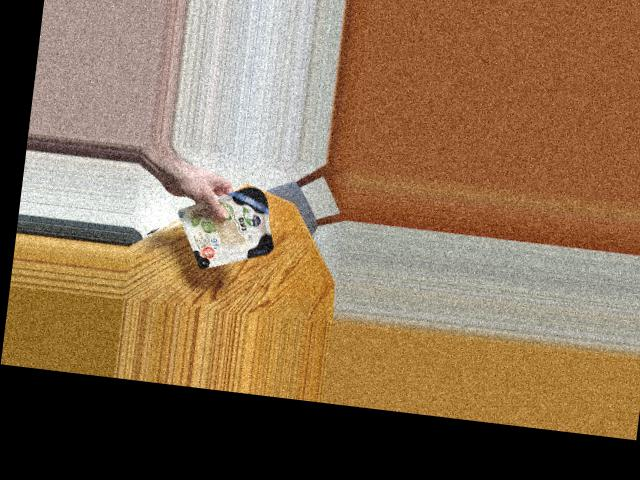cheese: (188, 184, 284, 274)
